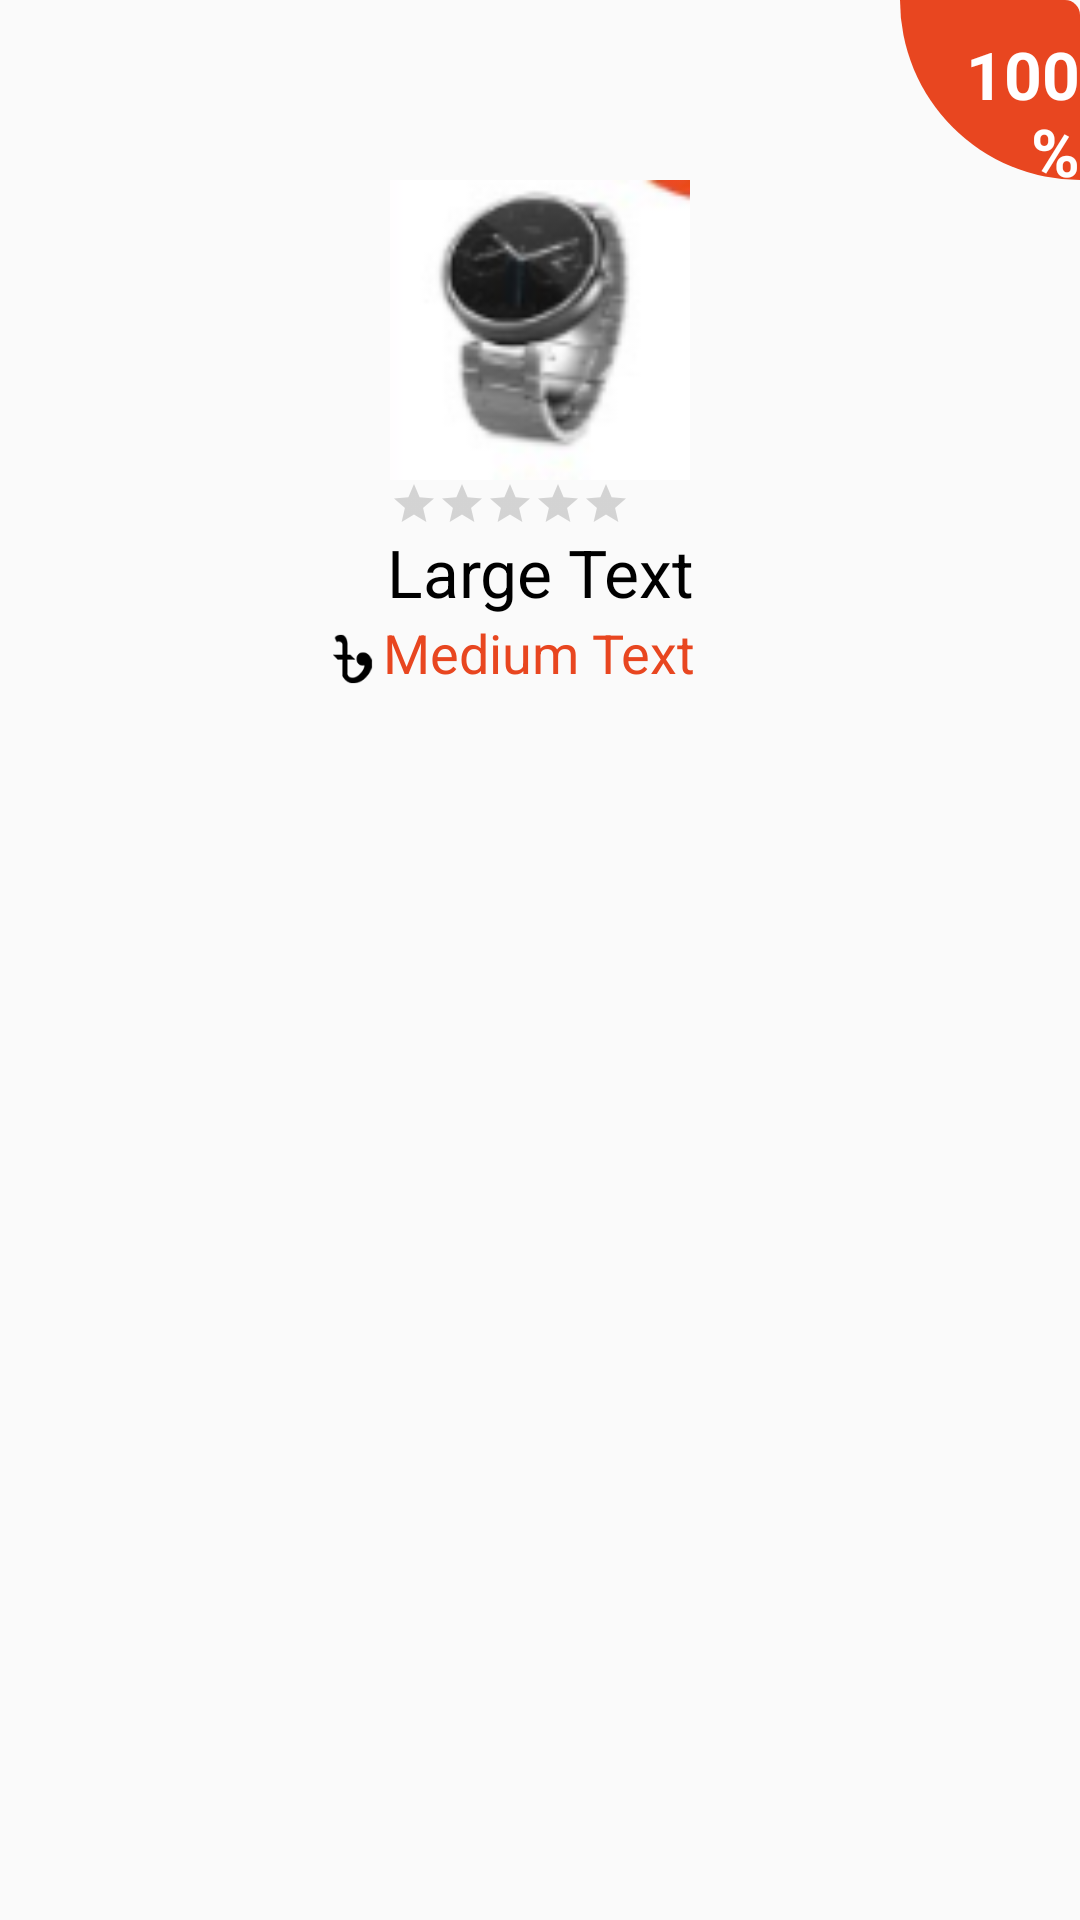

Named icons in this screenshot (1080×1920) and their bounding boxes, (x1=x1, y1=y1, x2=x2, y2=y2):
product: (x1=439, y1=180, x2=690, y2=447)
taka sign: (x1=333, y1=634, x2=372, y2=684)
